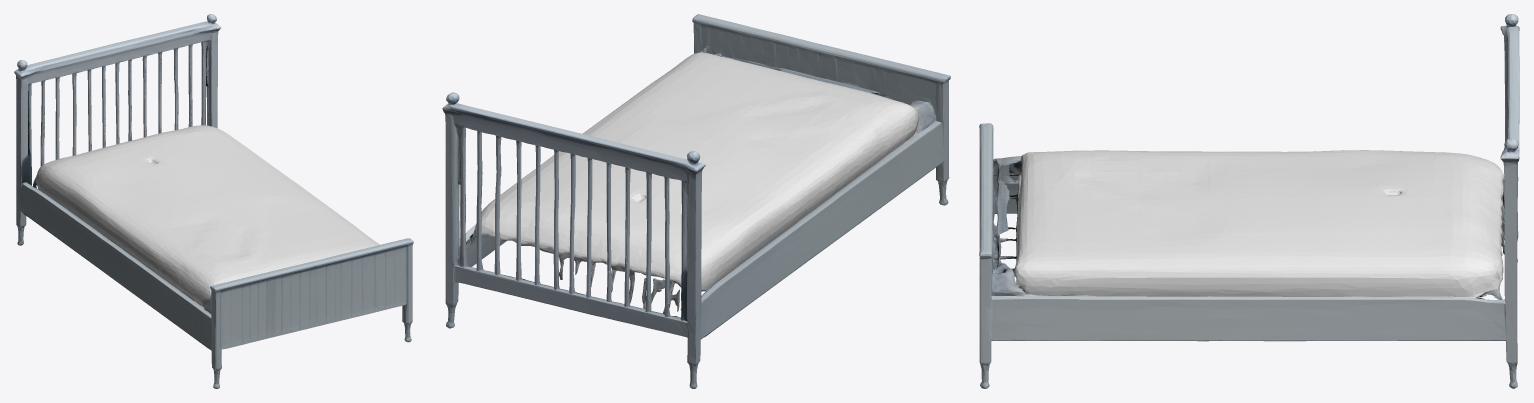
Rendered from 뉴자자침대.glb.
3 views of the same model, side by side, from view 1: azimuth 30°, elevation 25°; view 2: azimuth 150°, elevation 25°; view 3: azimuth 270°, elevation 25° (orthographic). The views are drawn at different scales.
Parts seen in each view (by area): view 1: world; view 2: world; view 3: world.
Part boxes in pixels (x1,y1,x2,y2): world: [14, 14, 413, 388]; world: [442, 14, 950, 388]; world: [979, 14, 1519, 388].
Bounding box in the file's own units: 0.5783 × 0.51 × 1.
Materials: 1 (1 with a texture image).
